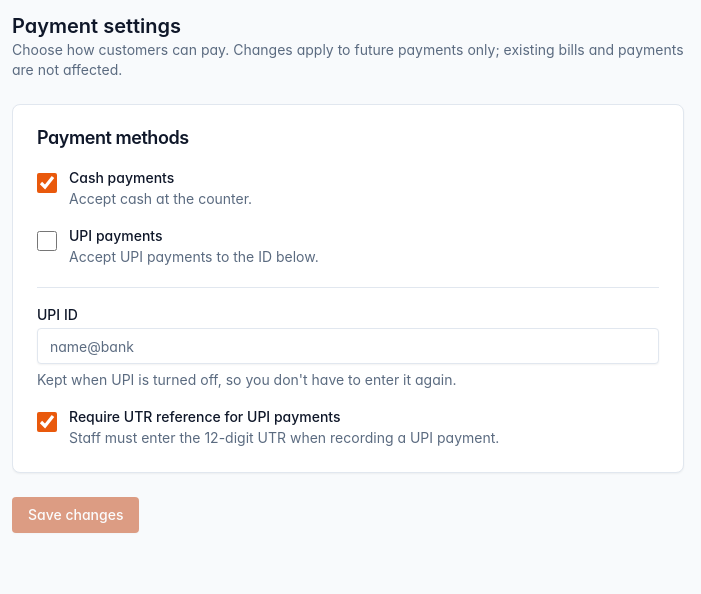
Test: OrganizationPaymentSettingsPage › Owner (settings.payments.manage) — editable › surfaces a server rejection, keeps what the owner typed, and can be retried
Expected: the checkbox labelled "Cash payments" is shown, left=37, top=173, right=57, bottom=193
Click the checkbox labelled "Require UTR reference for UPI payments".
click(47, 422)  # box left=37, top=412, right=57, bottom=432
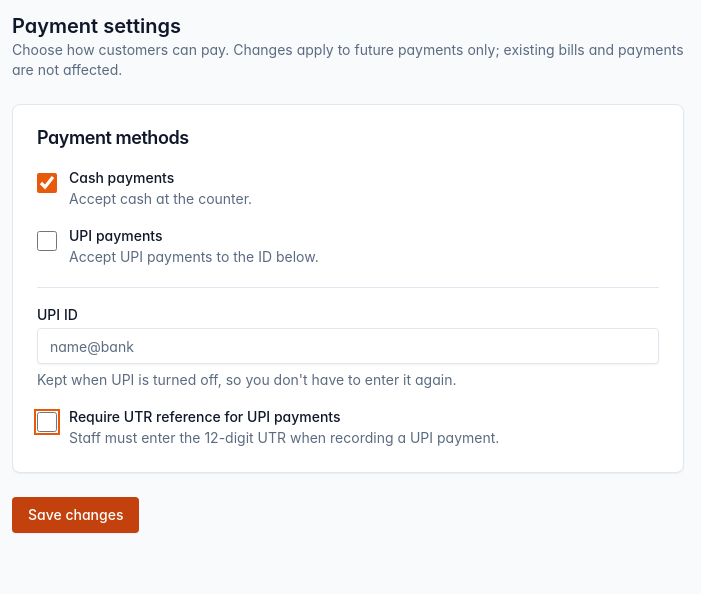
Click the button "Save changes".
click(76, 515)  # box left=12, top=497, right=140, bottom=533
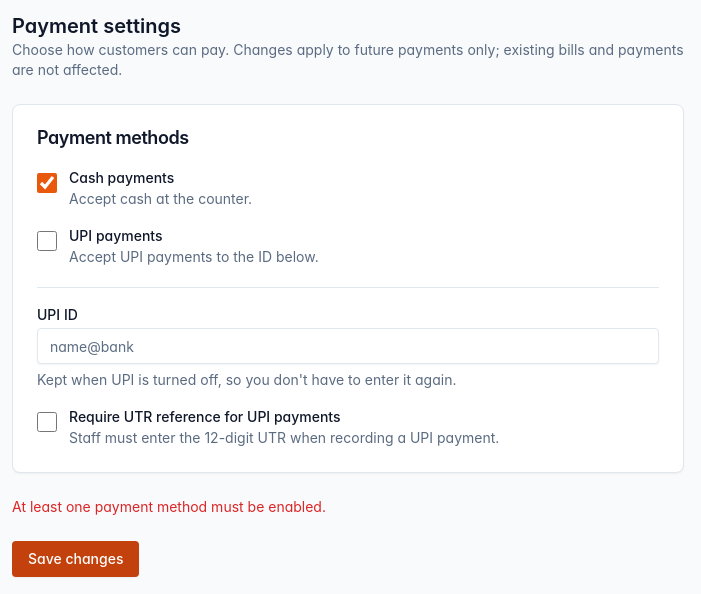
Expected: the checkbox labelled "Require UTR reference for UPI payments" is not checked, left=37, top=412, right=57, bottom=432
Expected: the button "Save changes" is enabled, left=12, top=541, right=140, bottom=577
Expected: the message reads "At least one payment method must be enabled.", left=12, top=498, right=326, bottom=515
